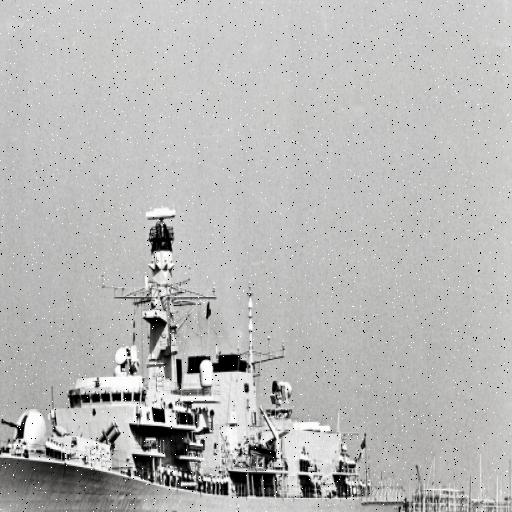Fragata: (1, 190, 410, 512)
